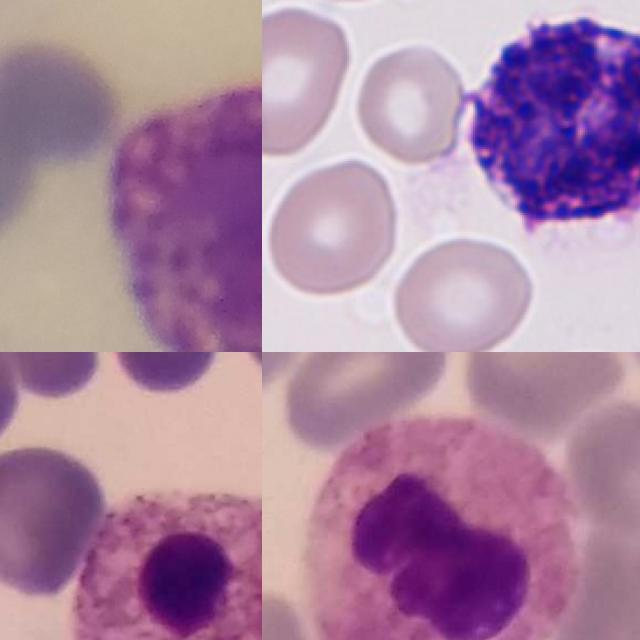Basophil: (447, 0, 640, 274), (109, 74, 262, 352)
Neutrophil: (302, 412, 577, 640), (67, 488, 262, 640)
RBC: (263, 154, 403, 300), (387, 232, 537, 352), (349, 35, 475, 167), (262, 0, 356, 162)
